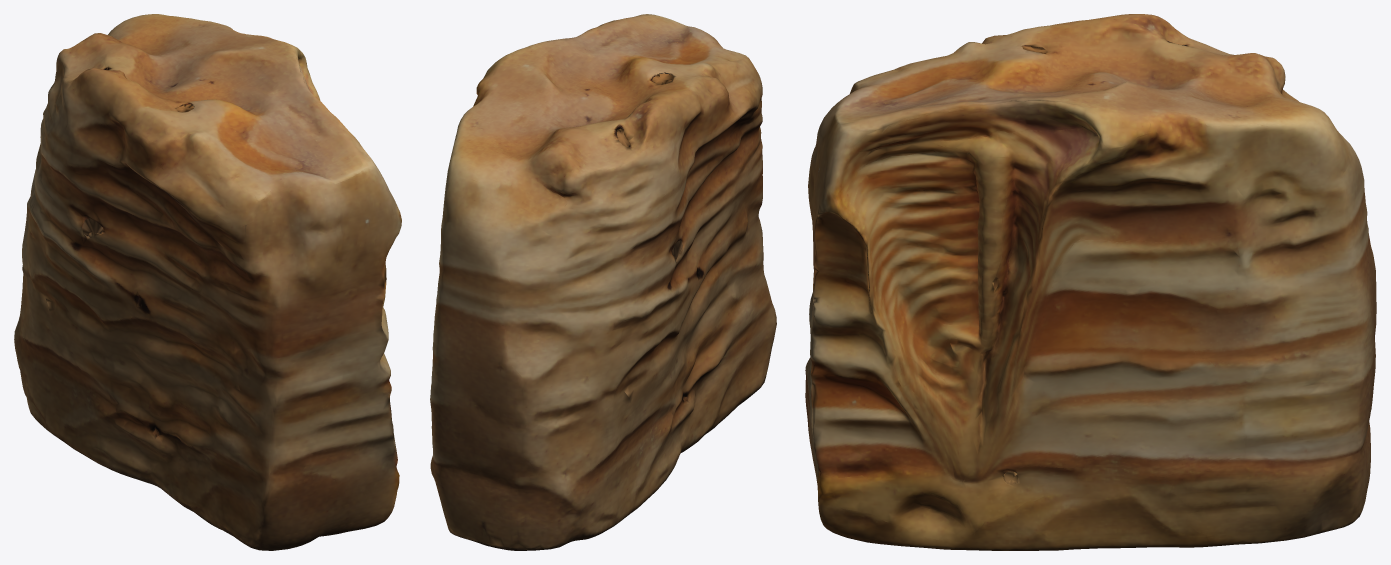
The picture shows the model from 3 angles, left to right: view 1: azimuth 30°, elevation 25°; view 2: azimuth 150°, elevation 25°; view 3: azimuth 270°, elevation 25°; orthographic projection. The views are drawn at different scales.
Visible parts, largest first — view 1: geometry_0; view 2: geometry_0; view 3: geometry_0.
Part boxes in pixels (x1,y1,x2,y2): geometry_0: (14, 14, 401, 550); geometry_0: (430, 14, 776, 550); geometry_0: (805, 14, 1376, 550).
Size of the model in its own units: 0.0399 by 0.0698 by 0.08.
Materials: 1 (1 with a texture image).
